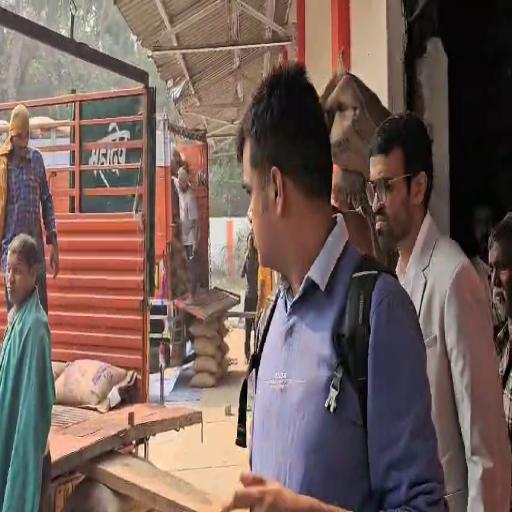bag: (321, 60, 388, 180)
